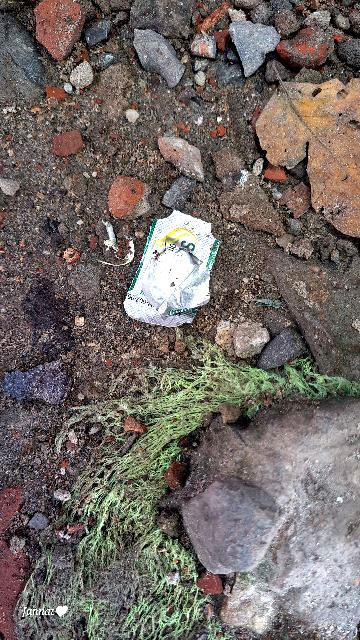medicine: (126, 212, 216, 328)
